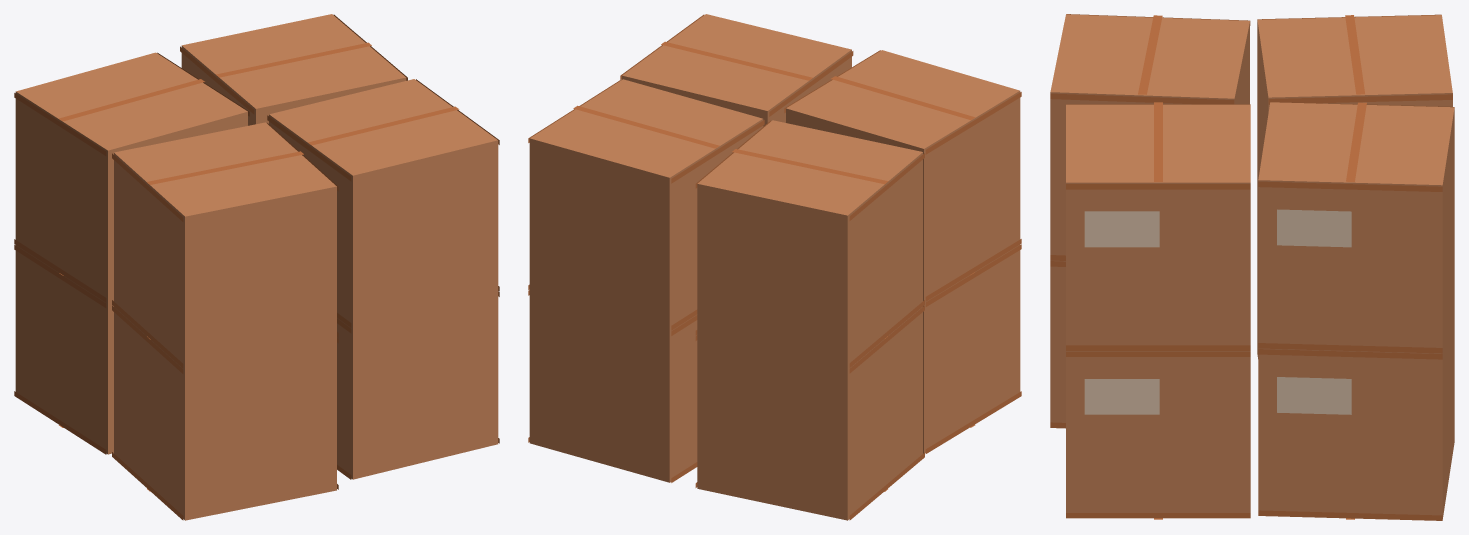
File: SRA_Box_Stack_02.glb
3 renders of one model, left to right at view 1: azimuth 30°, elevation 25°; view 2: azimuth 150°, elevation 25°; view 3: azimuth 270°, elevation 25°, orthographic. The views are drawn at different scales.
Parts seen in each view (by area): view 1: Box_Stack_02; view 2: Box_Stack_02; view 3: Box_Stack_02.
Boxes of the visible parts, box(x1,y1,x2,y2) form: Box_Stack_02: box(14, 14, 499, 520); Box_Stack_02: box(528, 14, 1021, 520); Box_Stack_02: box(1050, 14, 1454, 520).
Bounding box in the file's own units: 0.619 × 0.5648 × 0.613.
Materials: 1 (1 with a texture image).
